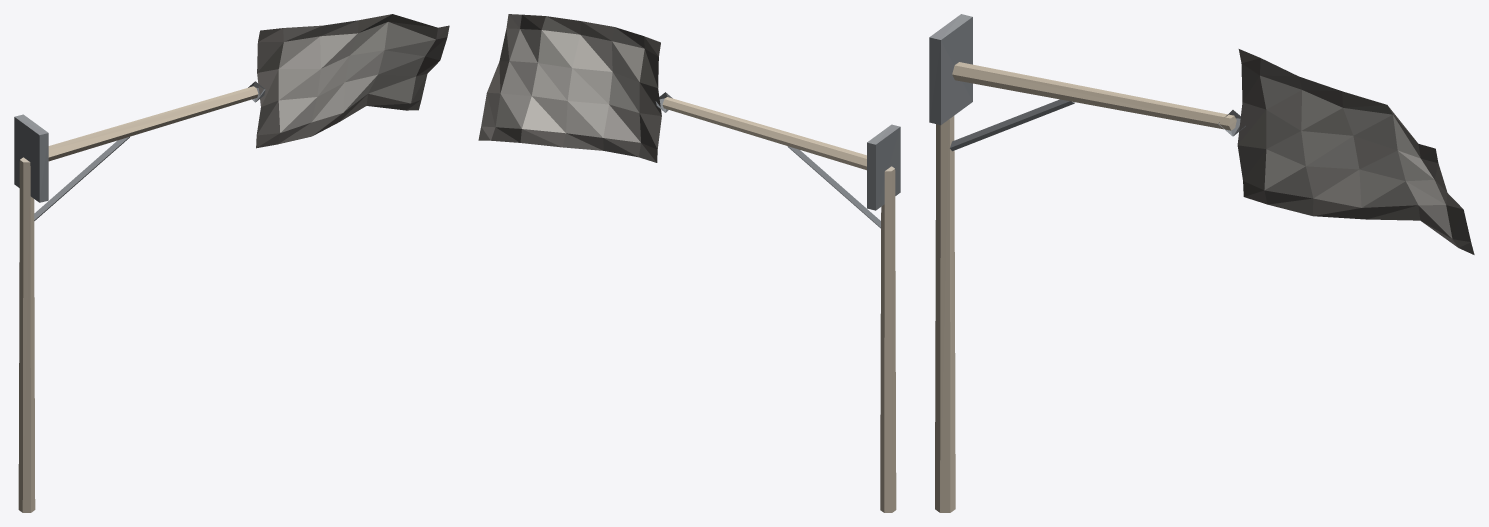
Rendered from flag.rect.suqi__pole.horizontal.xiecheng__armFly.glb.
The picture shows the model from 3 angles, left to right: view 1: azimuth 30°, elevation 25°; view 2: azimuth 150°, elevation 25°; view 3: azimuth 330°, elevation 25°; orthographic projection. The views are drawn at different scales.
Visible parts, largest first — view 1: flag.rect.suqi; view 2: flag.rect.suqi; view 3: flag.rect.suqi.
Boxes of the visible parts, x1=… form: flag.rect.suqi: x1=14, y1=14, x2=449, y2=512; flag.rect.suqi: x1=478, y1=14, x2=900, y2=512; flag.rect.suqi: x1=929, y1=14, x2=1474, y2=512.
Bounding box in the file's own units: 3.57 × 3.5 × 0.5482.
